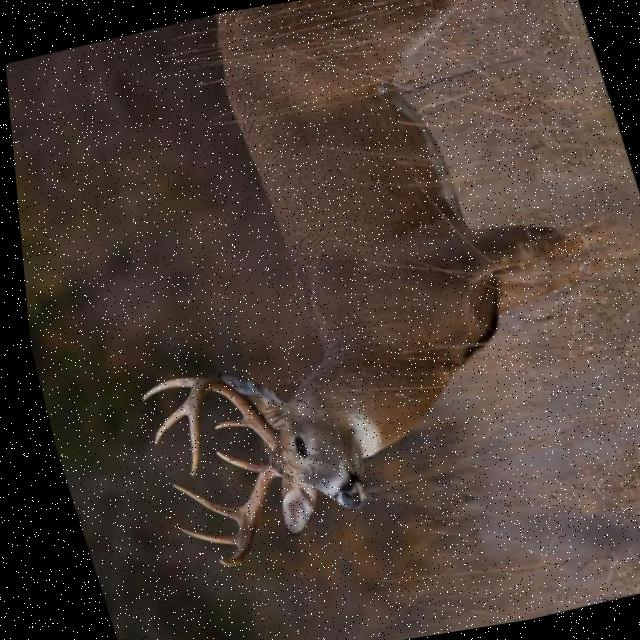L-F: (181, 377, 270, 476)
L-G1: (206, 418, 243, 429)
L-G2: (134, 377, 195, 401)
R-G1: (207, 451, 253, 473)
R-G2: (162, 483, 232, 522)
R-G3: (169, 527, 228, 545)
